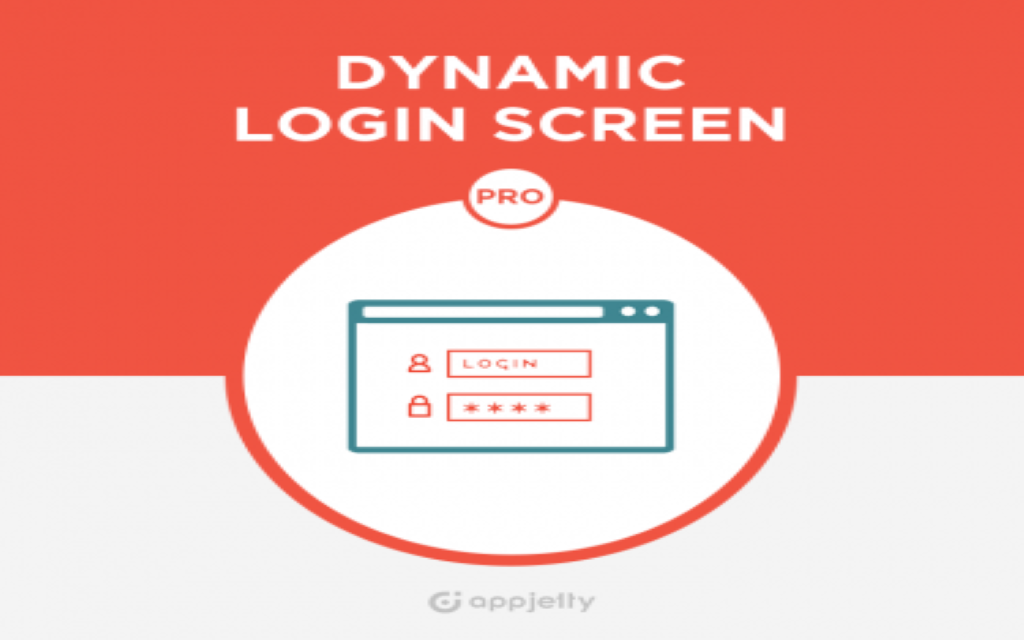textbox: (452, 396, 592, 422), (447, 353, 590, 378)
